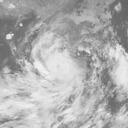cyclone: (6, 32, 123, 112)
